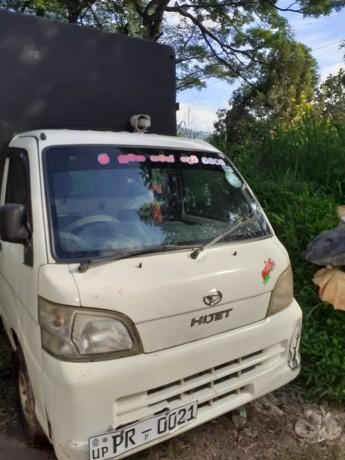truck: (1, 8, 302, 460)
